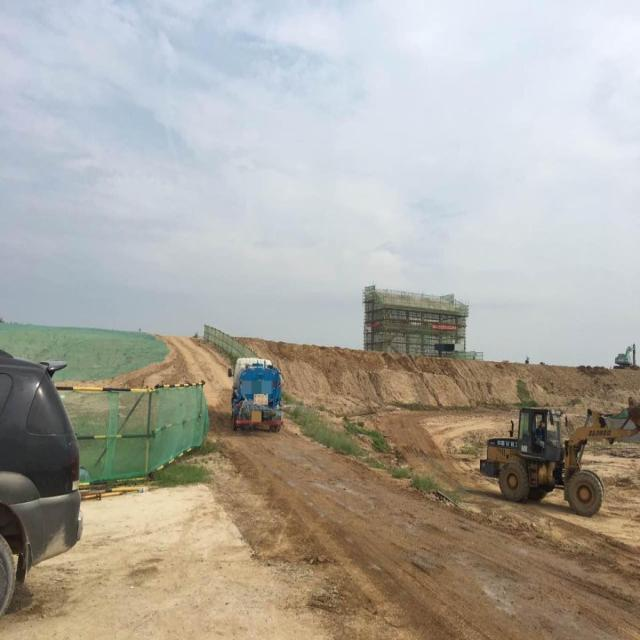excavator: (610, 334, 640, 375)
machinery: (472, 392, 640, 524)
